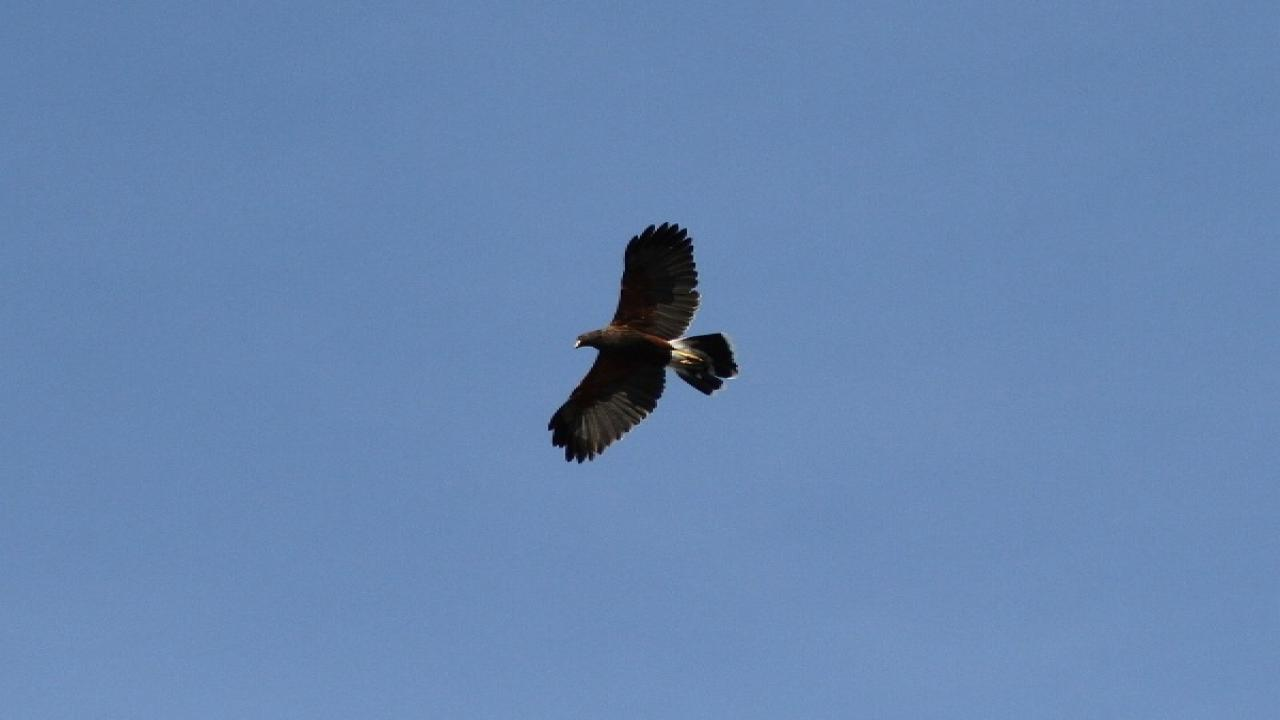Bird: (534, 220, 751, 470)
